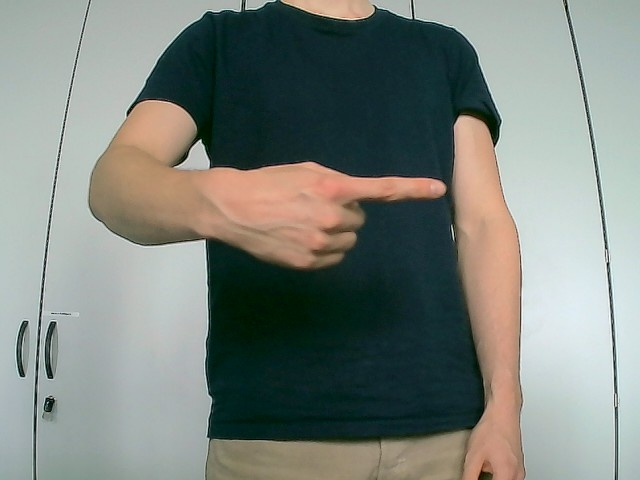left: (202, 160, 448, 272)
